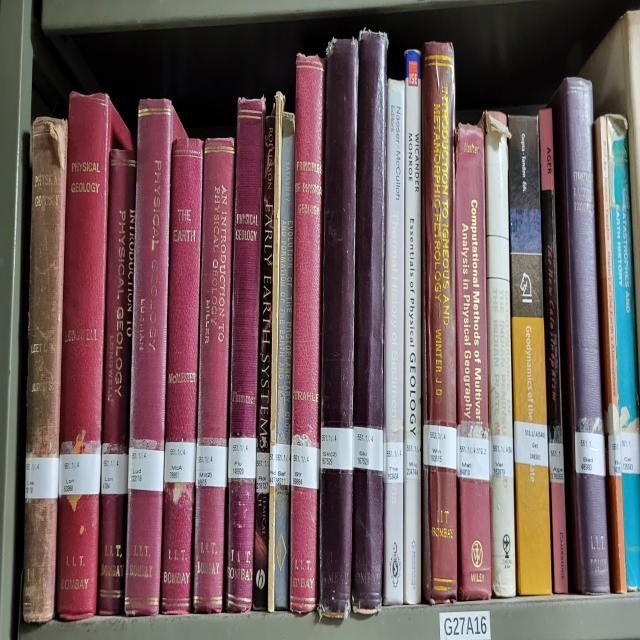Book: (58, 92, 135, 620), (551, 76, 610, 593), (125, 100, 184, 614), (319, 38, 359, 620), (22, 116, 68, 622), (594, 114, 640, 593), (351, 30, 388, 614), (421, 41, 458, 603), (226, 97, 265, 611), (290, 54, 325, 614), (161, 138, 202, 614), (194, 138, 235, 611), (480, 111, 516, 598), (99, 149, 136, 614), (455, 124, 491, 601), (539, 108, 568, 593), (511, 317, 552, 595), (252, 116, 275, 609), (384, 78, 405, 603), (404, 49, 421, 603), (268, 92, 285, 611), (276, 114, 295, 446)
Label: (59, 452, 101, 495), (128, 446, 164, 492), (514, 422, 549, 468), (25, 457, 59, 501), (424, 425, 456, 471), (458, 436, 489, 482), (320, 427, 352, 471), (352, 425, 382, 471), (575, 430, 605, 476), (196, 444, 228, 487), (291, 444, 320, 490), (164, 441, 196, 482), (101, 452, 129, 495), (229, 436, 256, 479), (491, 436, 514, 476), (384, 441, 404, 484), (620, 433, 640, 473), (276, 444, 291, 487), (549, 441, 564, 484), (256, 452, 270, 492), (608, 433, 621, 476), (269, 444, 276, 487)
